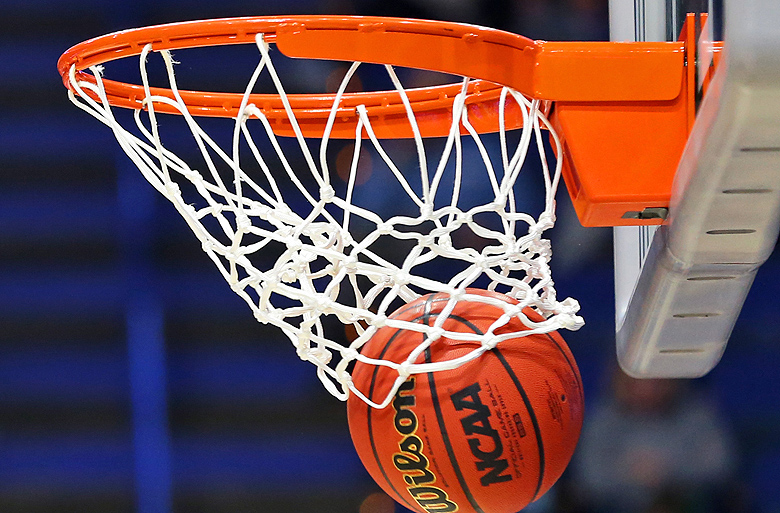Basketball: (337, 287, 588, 513)
